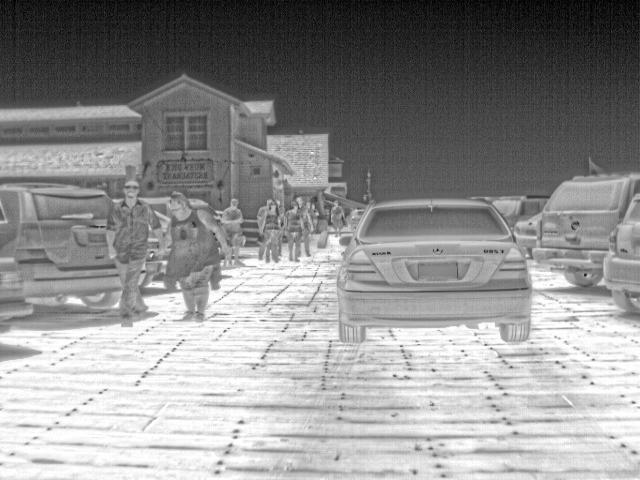car: (335, 194, 532, 344), (1, 180, 120, 310), (534, 168, 638, 290), (605, 192, 640, 318), (493, 194, 549, 226), (514, 214, 540, 256), (350, 207, 369, 234)
person: (149, 190, 230, 321), (105, 180, 157, 328), (219, 198, 245, 262), (261, 204, 284, 262), (290, 197, 311, 256), (281, 202, 303, 258), (329, 199, 347, 238), (308, 200, 321, 232)
